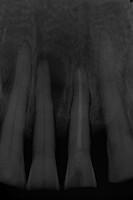Furcation Involvement: (36, 49, 68, 114), (0, 40, 17, 94)
